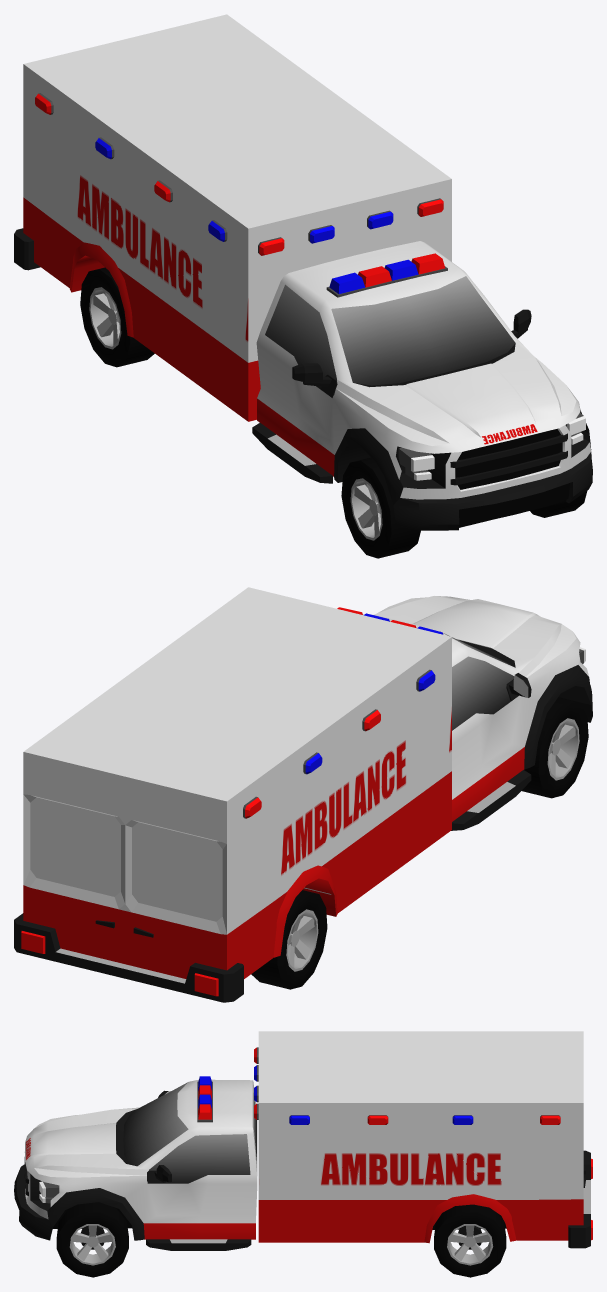
Rendered from ambulance 2.fbx.
3 renders of one model, top to bottom at view 1: azimuth 30°, elevation 25°; view 2: azimuth 150°, elevation 25°; view 3: azimuth 270°, elevation 25°, orthographic. The views are drawn at different scales.
Visible parts, largest first — view 1: Plane, Cylinder.002, Cylinder.003; view 2: Plane, Cylinder.002, Cylinder.003; view 3: Plane, Cylinder, Cylinder.001.
Boxes of the visible parts, <box> form: Plane: <box>14,14,592,530</box>; Cylinder.002: <box>341,457,420,558</box>; Cylinder.003: <box>80,267,154,367</box>; Plane: <box>14,587,592,1002</box>; Cylinder.002: <box>522,697,588,798</box>; Cylinder.003: <box>251,890,327,989</box>; Plane: <box>14,1031,592,1250</box>; Cylinder: <box>56,1202,128,1277</box>; Cylinder.001: <box>434,1204,506,1277</box>.
Bounding box in the file's own units: 96.08 × 94.34 × 282.
Materials: 1 (1 with a texture image).
